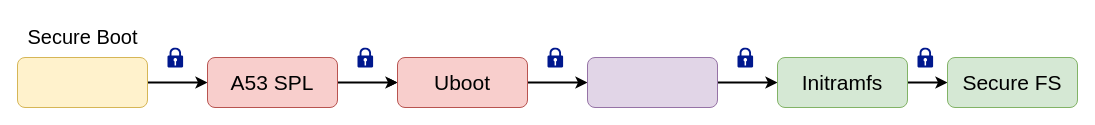
The diagram is 1095 pixels wide and 125 high, and some of its shapes have lost their labels. Here are the shapes that lost their labels. From the top down, the box of each, then its label:
(16, 56, 148, 108): ROM
(586, 56, 718, 108): Kernel
